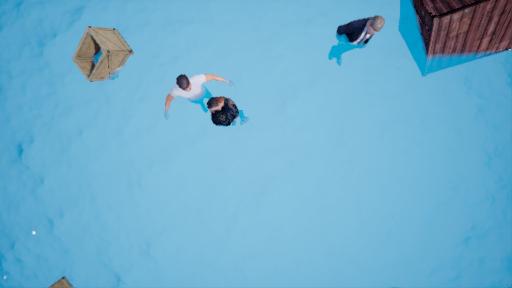person: (164, 71, 261, 138), (306, 11, 382, 69)
